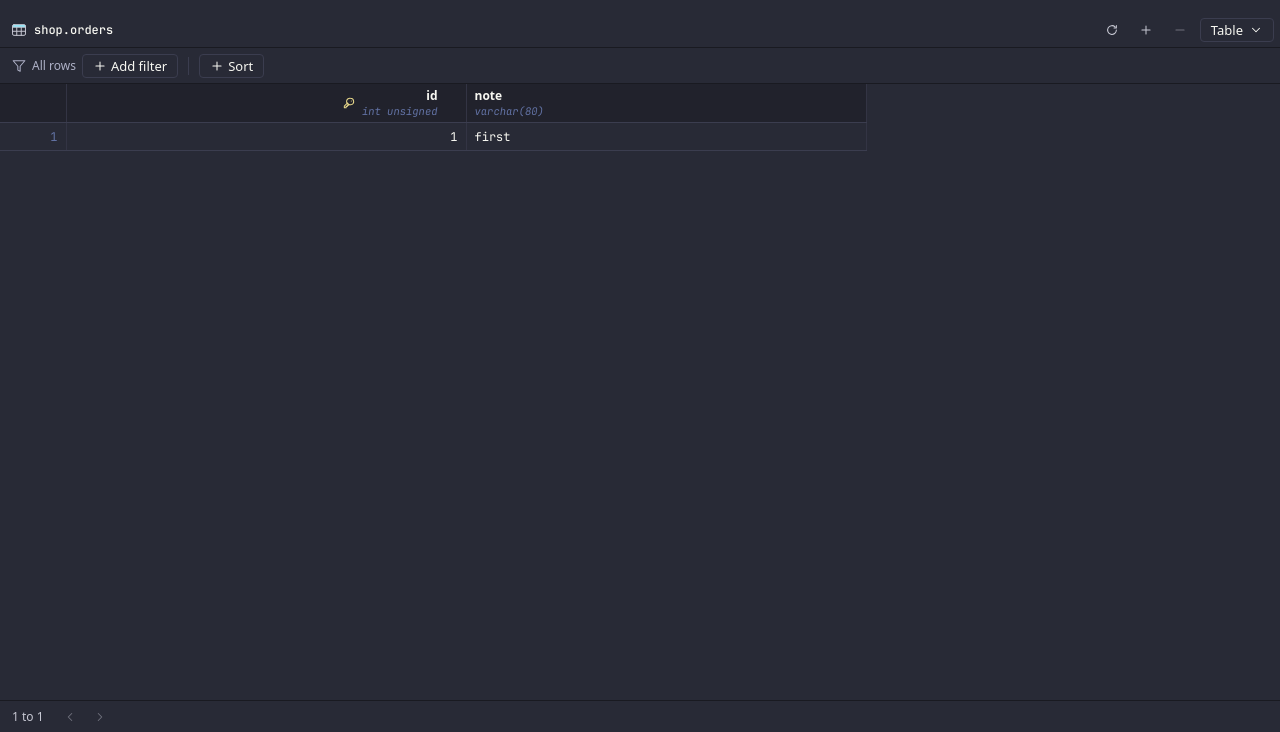
Test: a failed sort offers Clear sort, which refetches unsorted
The image size is (1280, 732).
expect the text "first" is shown: met, box [474,128,510,144]
expect the button "Clear sort" is not shown: met
Click the button with aria-label "Sort by note" at [509, 111], box [466,84,866,122]
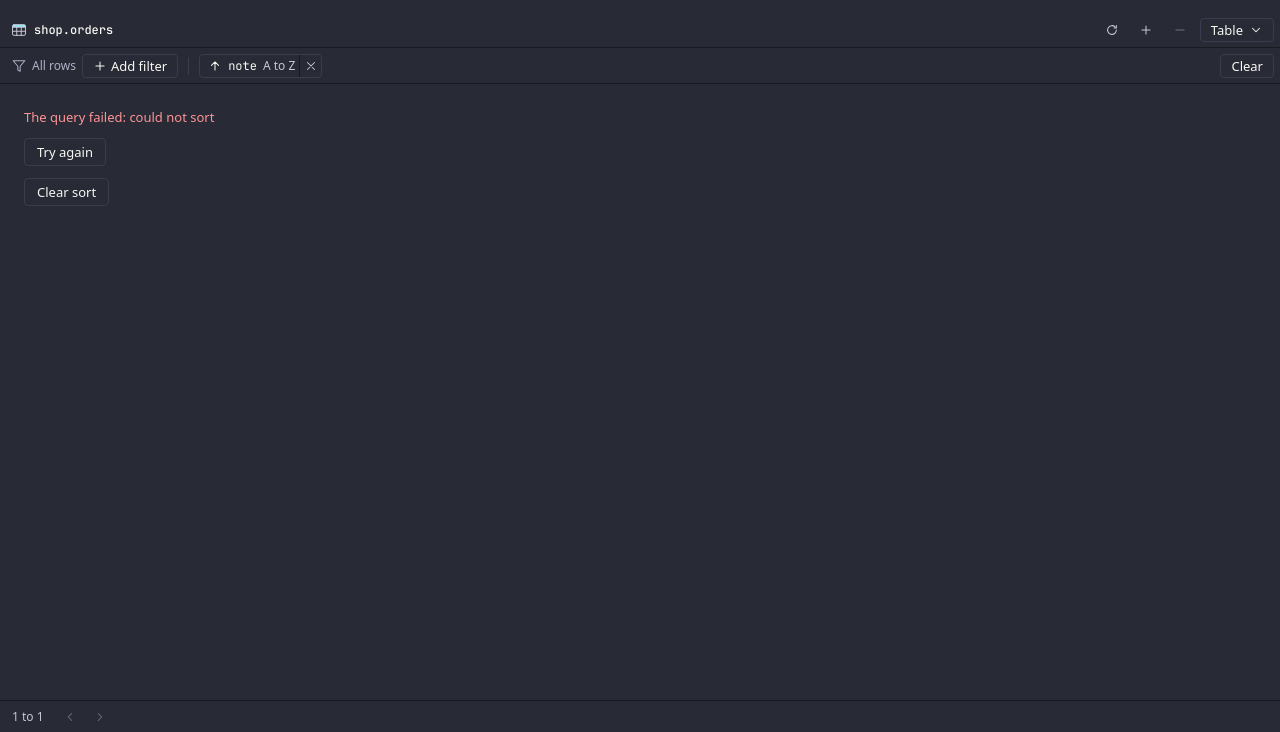
expect the message "The query failed: could not sort Try again Clear sort" is shown: met, box [24,108,214,206]
Click the button "Clear sort" at [67, 192], box [24,178,109,206]
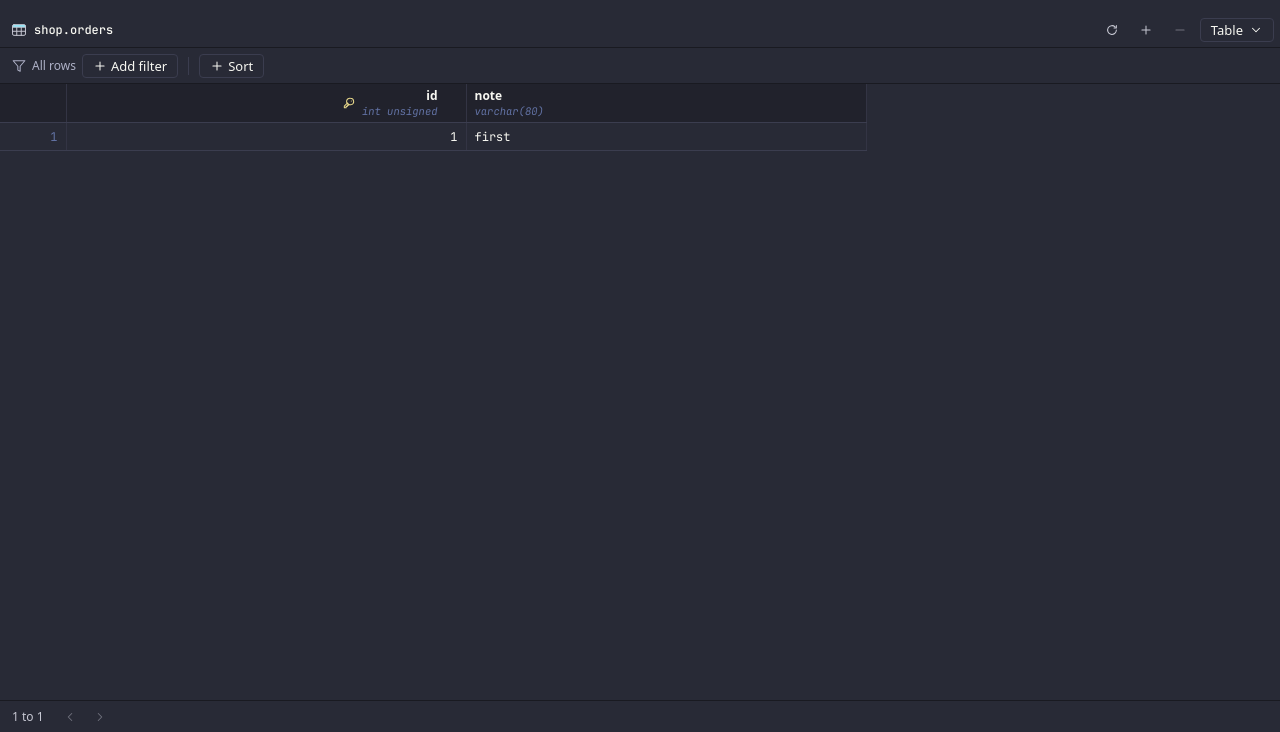
expect the text "first" is shown: met, box [474,128,510,144]
expect the message "The query failed: could not sort Try again Clear sort" is gone: met
